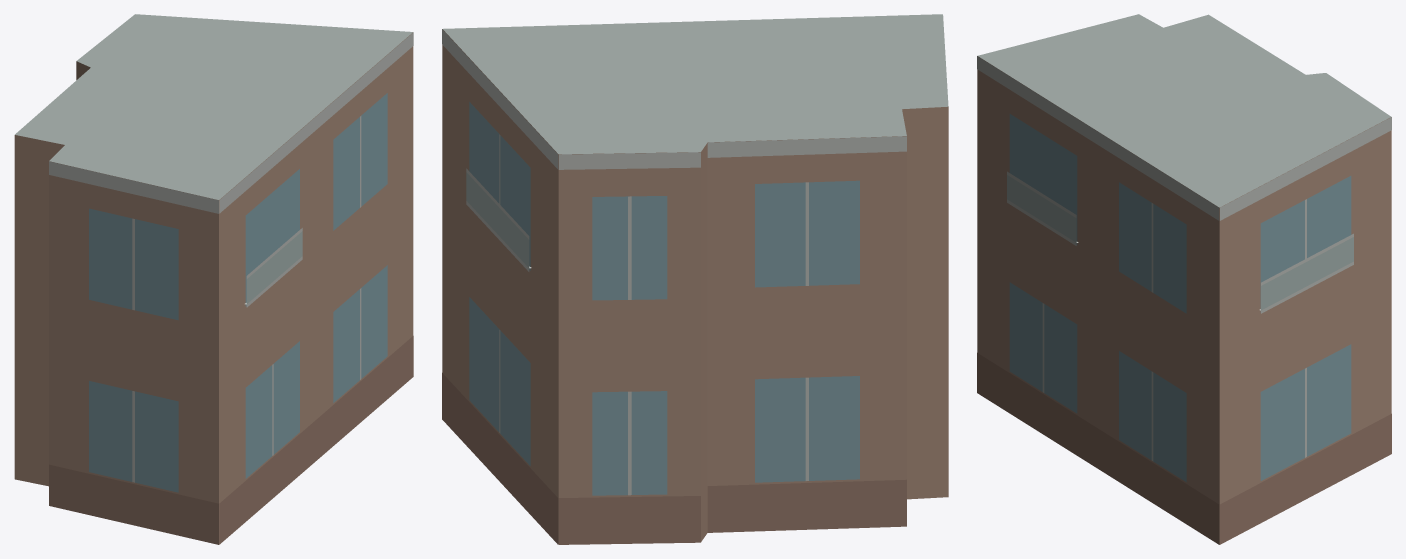
File: survey-upis-33026842.glb
The picture shows the model from 3 angles, left to right: view 1: azimuth 30°, elevation 25°; view 2: azimuth 150°, elevation 25°; view 3: azimuth 270°, elevation 25°; orthographic projection. The views are drawn at different scales.
Visible parts, largest first — view 1: survey-upis-33026842.tmp; view 2: survey-upis-33026842.tmp; view 3: survey-upis-33026842.tmp.
Boxes of the visible parts, box(x1,y1,x2,y2) form: survey-upis-33026842.tmp: box(14, 14, 413, 544); survey-upis-33026842.tmp: box(442, 14, 948, 544); survey-upis-33026842.tmp: box(977, 14, 1391, 544).
Size of the model in its own units: 7.52 by 6.1 by 6.8.
